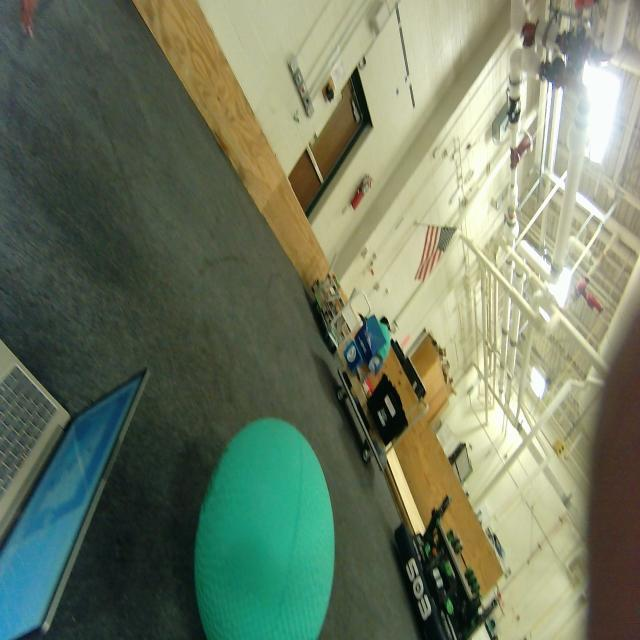algae: (194, 417, 340, 640)
